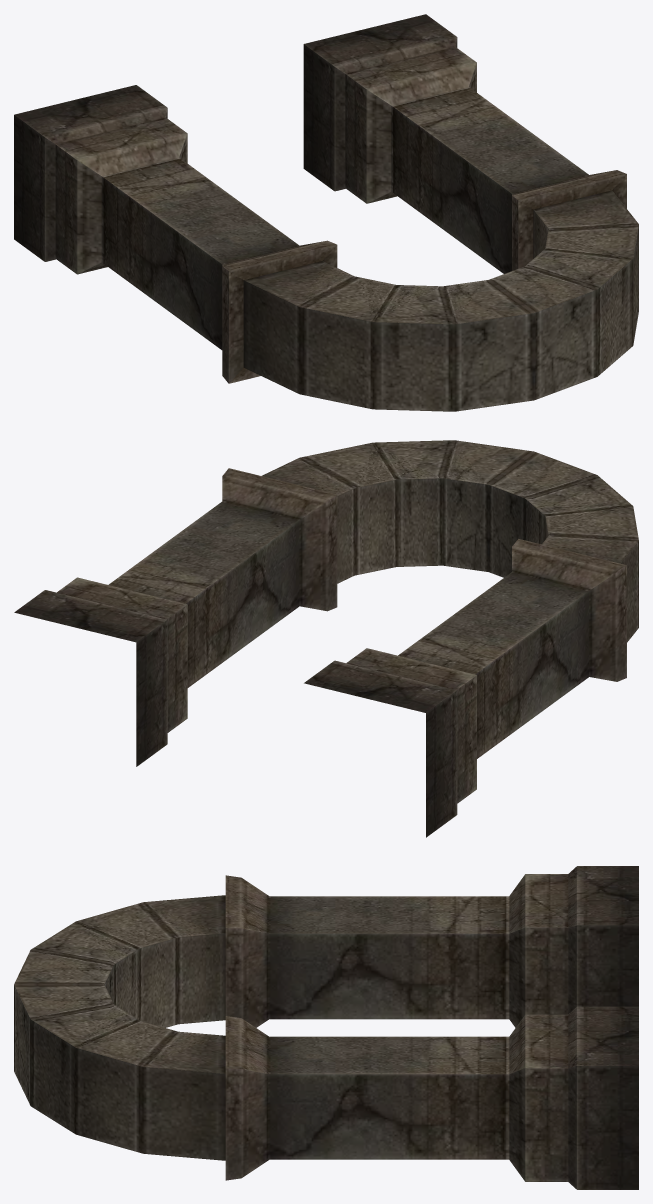
3 views of the same model, one above another, from view 1: azimuth 30°, elevation 25°; view 2: azimuth 150°, elevation 25°; view 3: azimuth 270°, elevation 25° (orthographic).
Visible parts, largest first — view 1: model_Object29; view 2: model_Object29; view 3: model_Object29.
Boxes of the visible parts, x1,y1,x2,y2 form: model_Object29: [14, 14, 638, 411]; model_Object29: [14, 440, 638, 837]; model_Object29: [14, 866, 638, 1189].
Bounding box in the file's own units: 1.98 × 0.572 × 2.61.
1 material, 1 textured.
